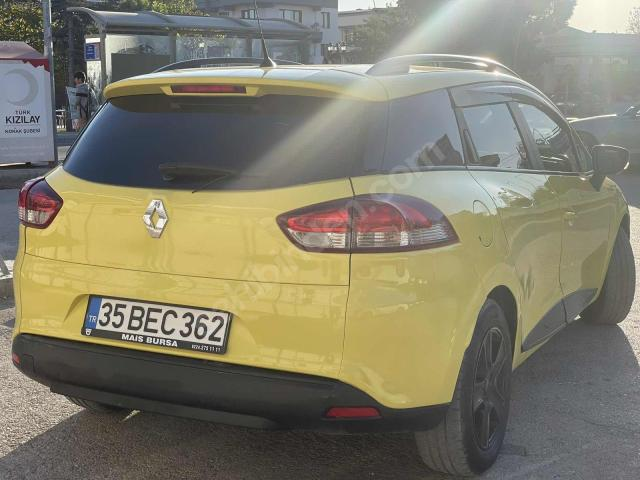plaka: (81, 296, 232, 354)
